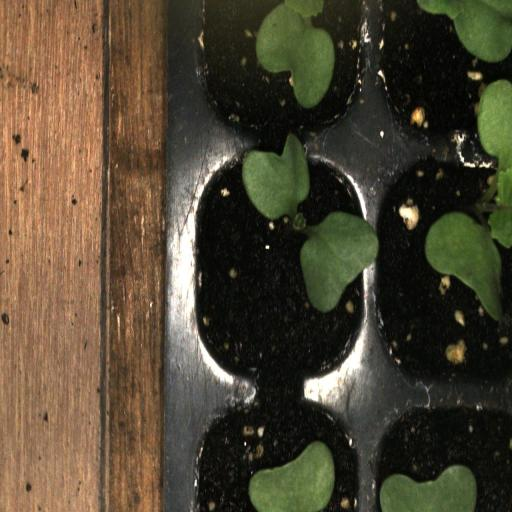seedling: (183, 142, 372, 390), (374, 141, 512, 395)
